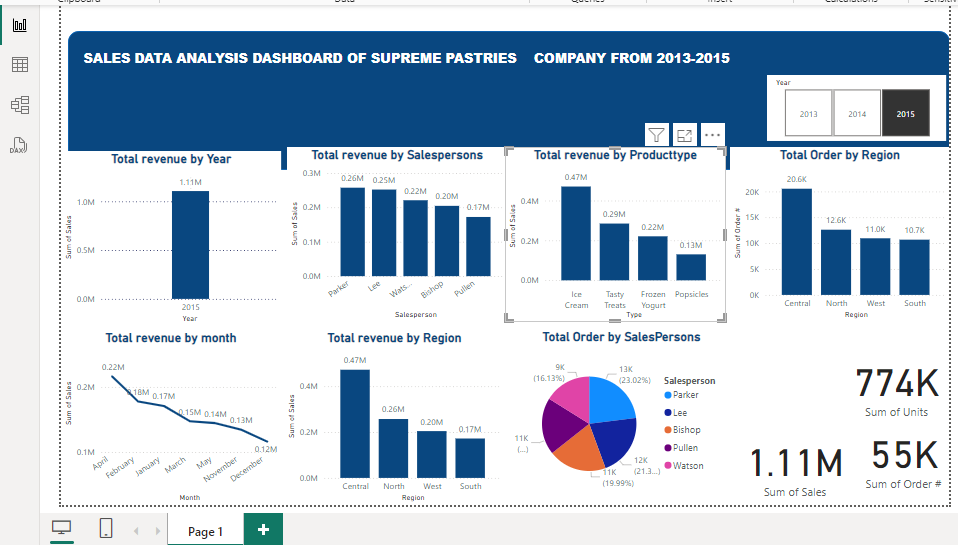

The dashboard page shown, as its layout file describes it:
{"tool":"powerbi","page":{"name":"Page 1","canvas":[1280,720],"ordinal":0},"visuals":[{"type":"shape","box":[10.1,37.4,1270.1,200.2],"z":0},{"type":"columnChart","title":"Total revenue by Year","fields":{"Category":["Sales Data.Year"],"Y":["Sales Data.Sales"]},"box":[0,210,317.5,252],"z":1000},{"type":"columnChart","title":"Total revenue by Region","fields":{"Category":["Sales Data.Region"],"Y":["Sales Data.Sales"]},"box":[321.1,468,318.2,252],"z":2000},{"type":"columnChart","title":"Total revenue by Salespersons","fields":{"Category":["Sales Data.Salesperson"],"Y":["Sales Data.Sales"]},"box":[325.9,204.9,317.5,252],"z":3000},{"type":"card","fields":{"Values":["Sales Data.Sales"]},"box":[977.8,604.8,158.4,115.2],"z":4000},{"type":"card","fields":{"Values":["Sales Data.Order #"]},"box":[1146.2,593.3,133.9,115.2],"z":5000},{"type":"lineChart","title":"Total revenue by month","fields":{"Category":["Sales Data.Month"],"Y":["Sales Data.Sales"]},"box":[0,468,316.8,252],"z":6000},{"type":"columnChart","title":"Total revenue by Producttype","fields":{"Category":["Sales Data.Type"],"Y":["Sales Data.Sales"]},"box":[639.4,204.5,318.2,252],"z":7000},{"type":"columnChart","title":"Total Order by Region","fields":{"Category":["Sales Data.Region"],"Y":["Sales Data.Order #"]},"box":[963.2,204.5,316.8,252],"z":8000},{"type":"pieChart","title":"Total Order by SalesPersons","fields":{"Category":["Sales Data.Salesperson"],"Y":["Sales Data.Order #"]},"box":[648,466.6,318.2,252],"z":9000},{"type":"card","fields":{"Values":["Sales Data.Units"]},"box":[1136.2,489.6,133.9,115.2],"z":10000},{"type":"slicer","fields":{"Values":["Sales Data.Year"]},"box":[1016.6,100.8,257.8,95],"z":11000},{"type":"textbox","box":[27.4,57.6,961.9,90.7],"z":12000}]}

Visuals, with their boxes on the page's 1280x720 design canvas (x1, y1, x2, y2). These are canvas units, not pixel positions in the 958x545 screenshot, which may show the page scaled, cropped or inside an application window:
shape: [10,37,1280,238]
"Total revenue by Year" columnChart: [0,210,318,462]
"Total revenue by Region" columnChart: [321,468,639,720]
"Total revenue by Salespersons" columnChart: [326,205,643,457]
card - Sales Data.Sales: [978,605,1136,720]
card - Sales Data.Order #: [1146,593,1280,708]
"Total revenue by month" lineChart: [0,468,317,720]
"Total revenue by Producttype" columnChart: [639,204,958,456]
"Total Order by Region" columnChart: [963,204,1280,456]
"Total Order by SalesPersons" pieChart: [648,467,966,719]
card - Sales Data.Units: [1136,490,1270,605]
slicer - Sales Data.Year: [1017,101,1274,196]
textbox: [27,58,989,148]
